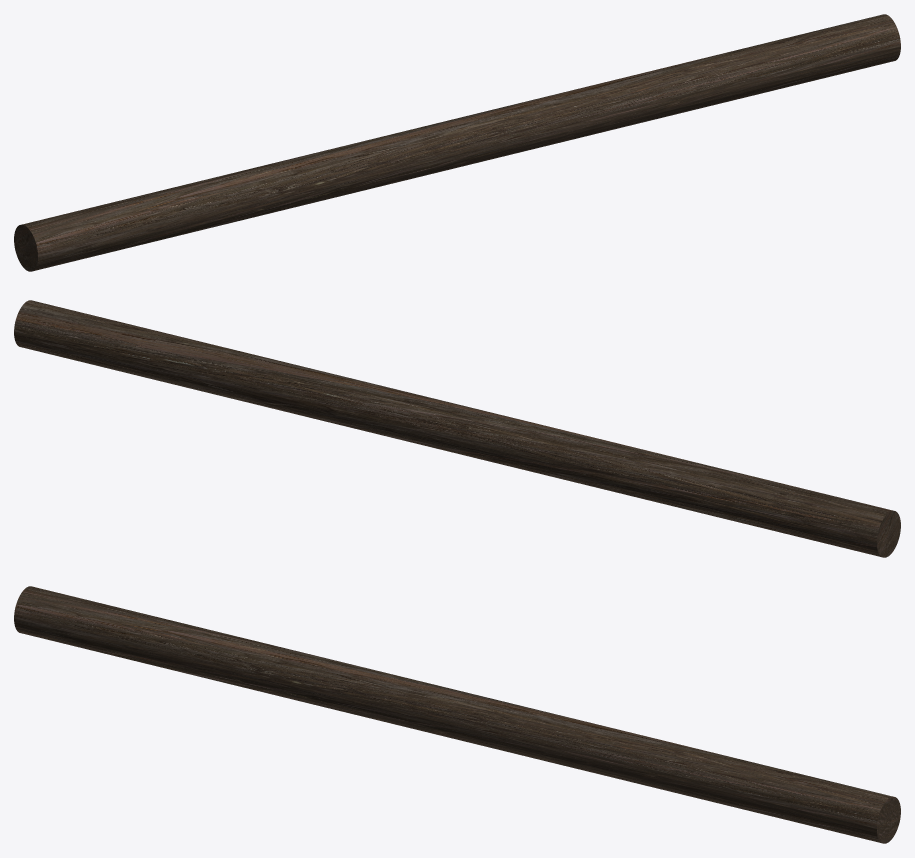
Rendered from log.glb.
The picture shows the model from 3 angles, top to bottom: view 1: azimuth 30°, elevation 25°; view 2: azimuth 150°, elevation 25°; view 3: azimuth 330°, elevation 25°; orthographic projection.
Parts seen in each view (by area): view 1: Cylinder; view 2: Cylinder; view 3: Cylinder.
Boxes of the visible parts, x1,y1,x2,y2 form: Cylinder: [14, 14, 900, 271]; Cylinder: [14, 300, 900, 557]; Cylinder: [14, 586, 900, 843].
Bounding box in the file's own units: 8.03 × 0.3891 × 0.3891.
Materials: 1 (1 with a texture image).
